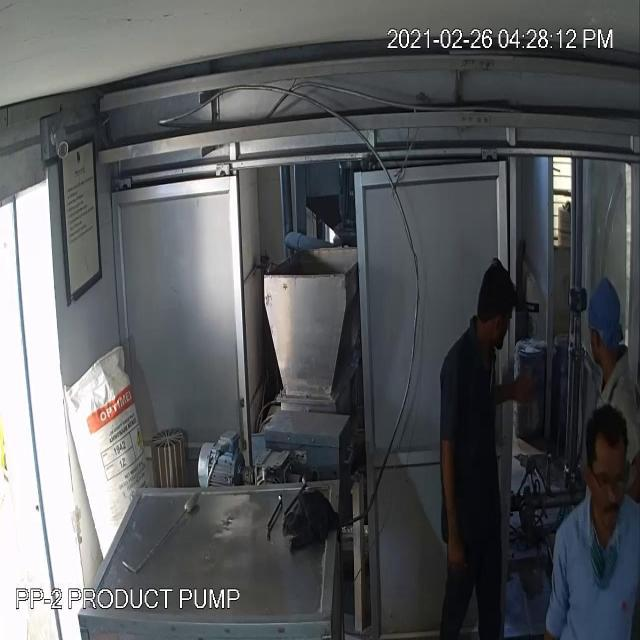no-helmet: (581, 404, 633, 489), (472, 260, 518, 335)
